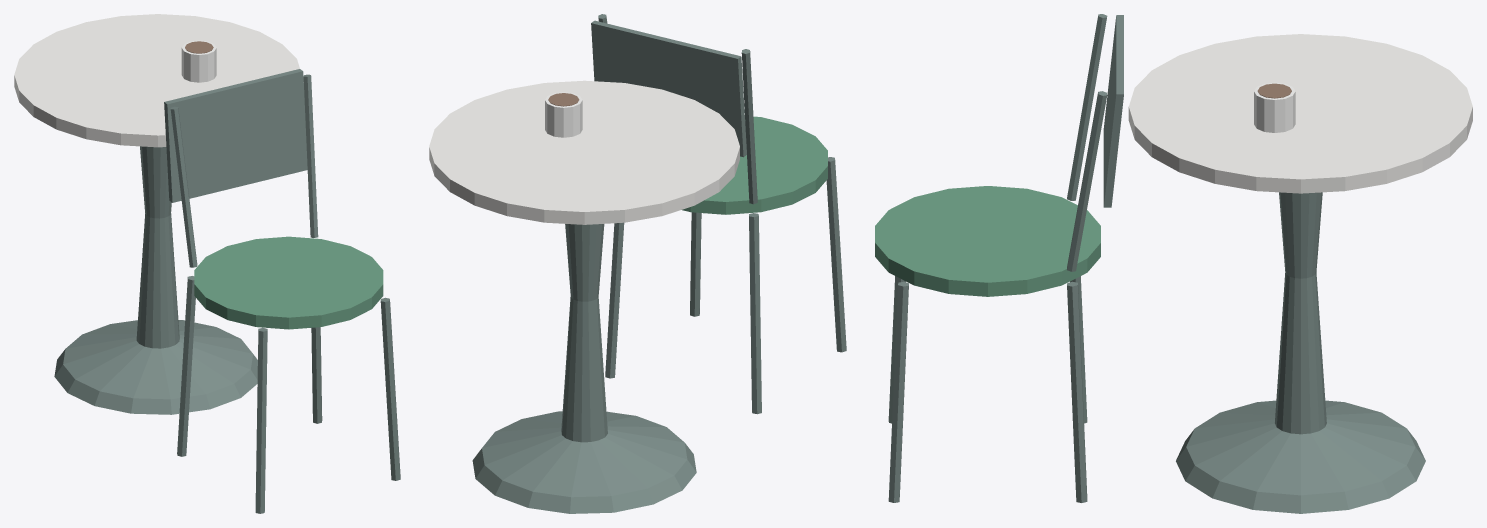
File: bistro_1.glb
3 views of the same model, side by side, from view 1: azimuth 30°, elevation 25°; view 2: azimuth 150°, elevation 25°; view 3: azimuth 270°, elevation 25° (orthographic). The views are drawn at different scales.
Visible parts, largest first — view 1: bistro_1_cast, bistro_1_marble, bistro_1_bench_g, bistro_1_porcelain; view 2: bistro_1_cast, bistro_1_marble, bistro_1_bench_g, bistro_1_porcelain; view 3: bistro_1_cast, bistro_1_marble, bistro_1_bench_g, bistro_1_porcelain.
Part boxes in pixels (x1,y1,x2,y2): bistro_1_cast: (54,69,400,513); bistro_1_marble: (14,14,299,147); bistro_1_bench_g: (194,236,383,329); bistro_1_porcelain: (181,40,216,82); bistro_1_cast: (472,14,846,513); bistro_1_marble: (429,80,739,224); bistro_1_bench_g: (682,116,827,214); bistro_1_porcelain: (545,92,582,137); bistro_1_cast: (888,14,1425,513); bistro_1_marble: (1128,34,1472,193); bistro_1_bench_g: (875,186,1100,296); bistro_1_porcelain: (1254,82,1295,132).
Bounding box in the file's own units: 0.66 × 0.8622 × 1.15.
